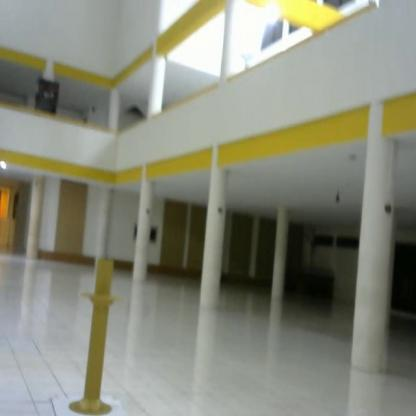pole: (66, 252, 130, 416)
